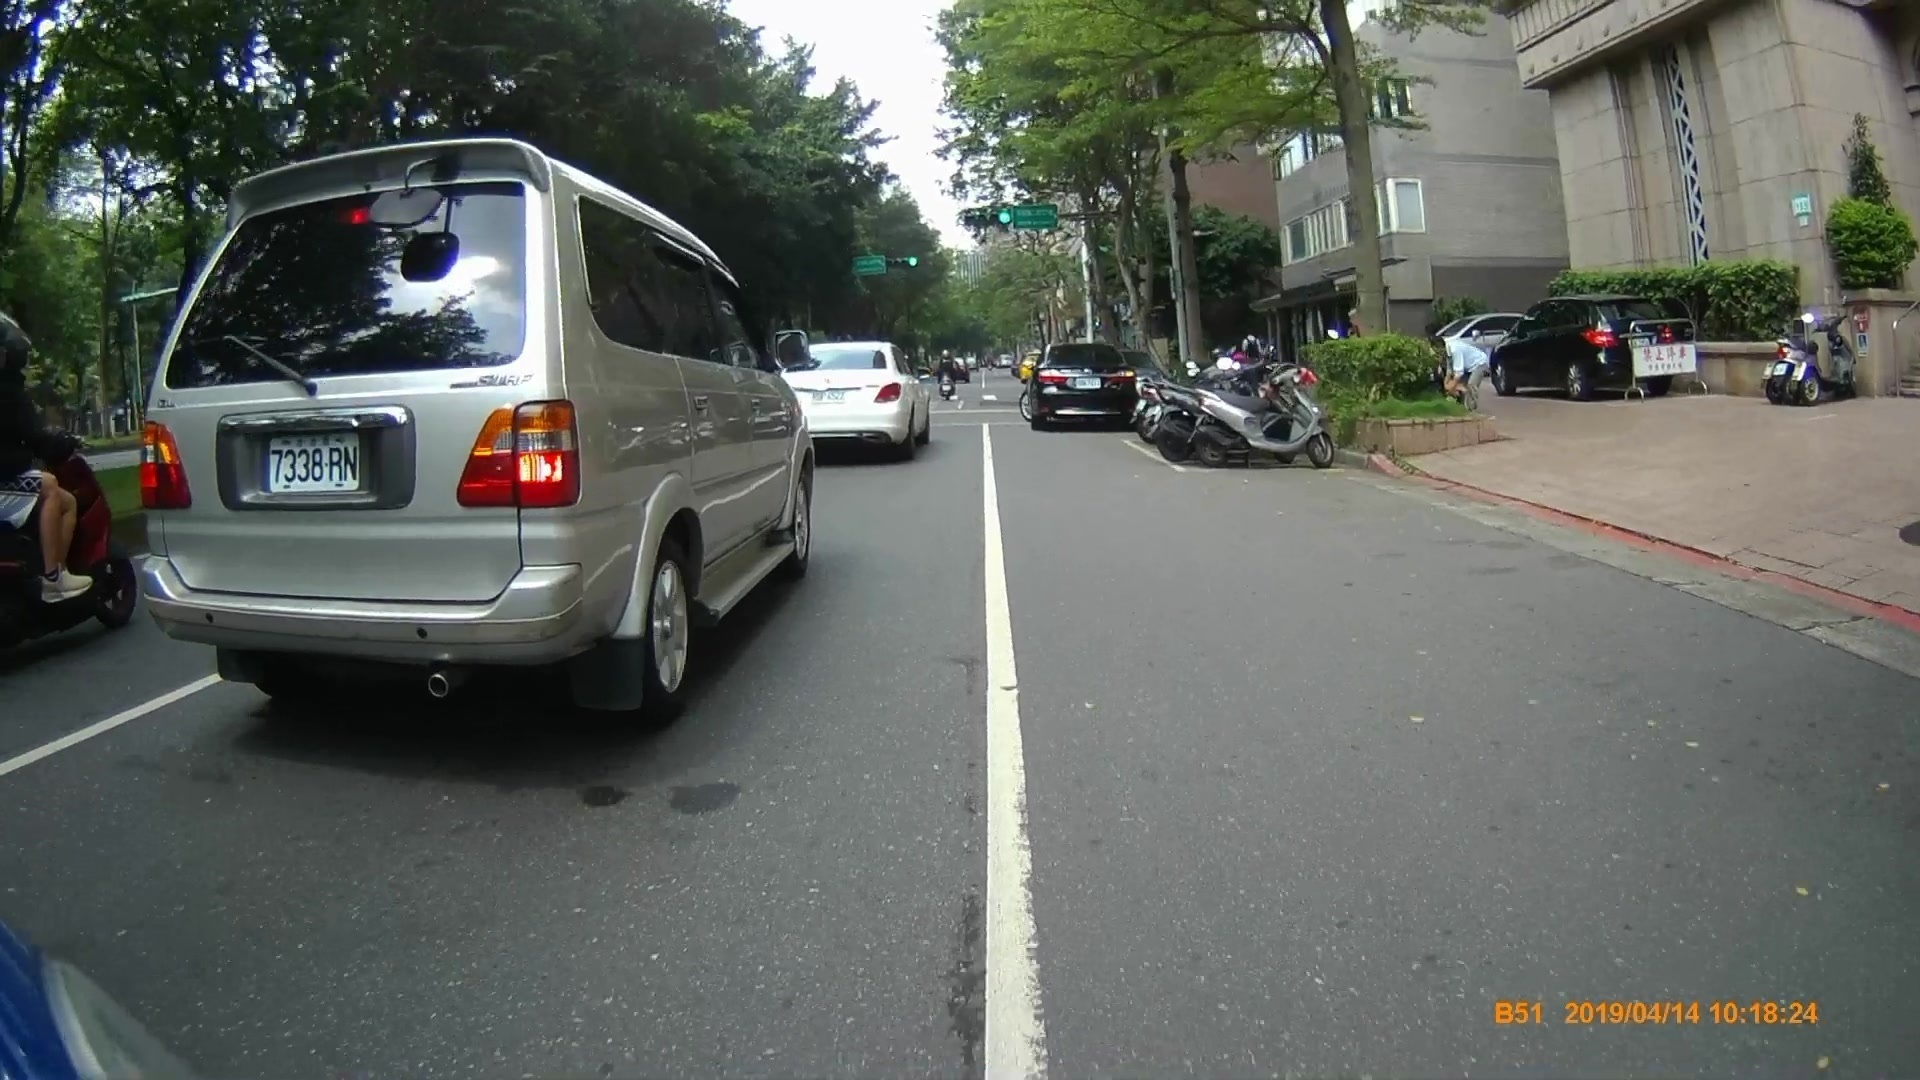License_plate: (267, 433, 364, 491)
